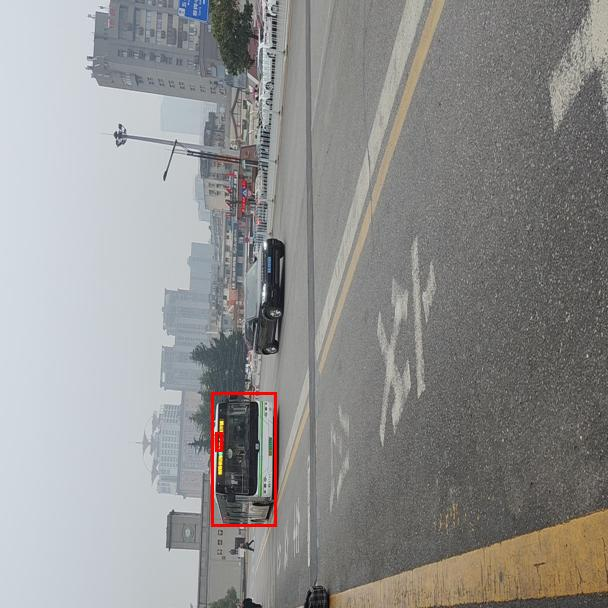bus: (211, 392, 276, 526)
screen: (215, 432, 222, 451)
